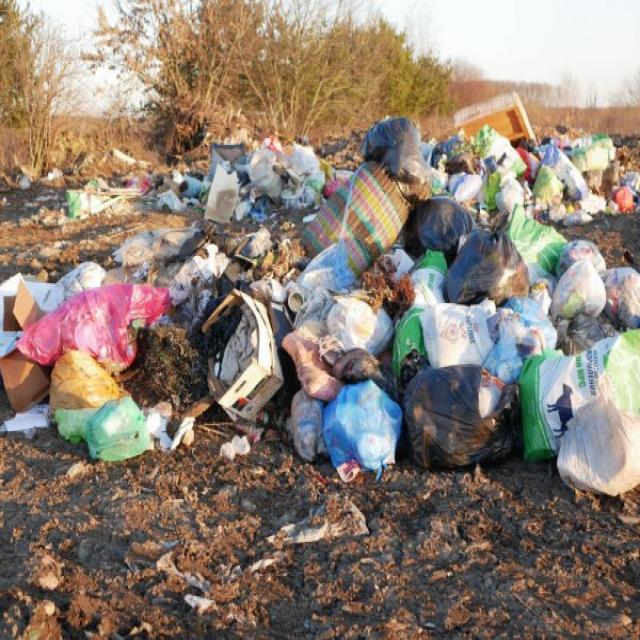Trashbag: (400, 362, 521, 471), (445, 232, 532, 311), (399, 194, 472, 262), (362, 114, 424, 186)
